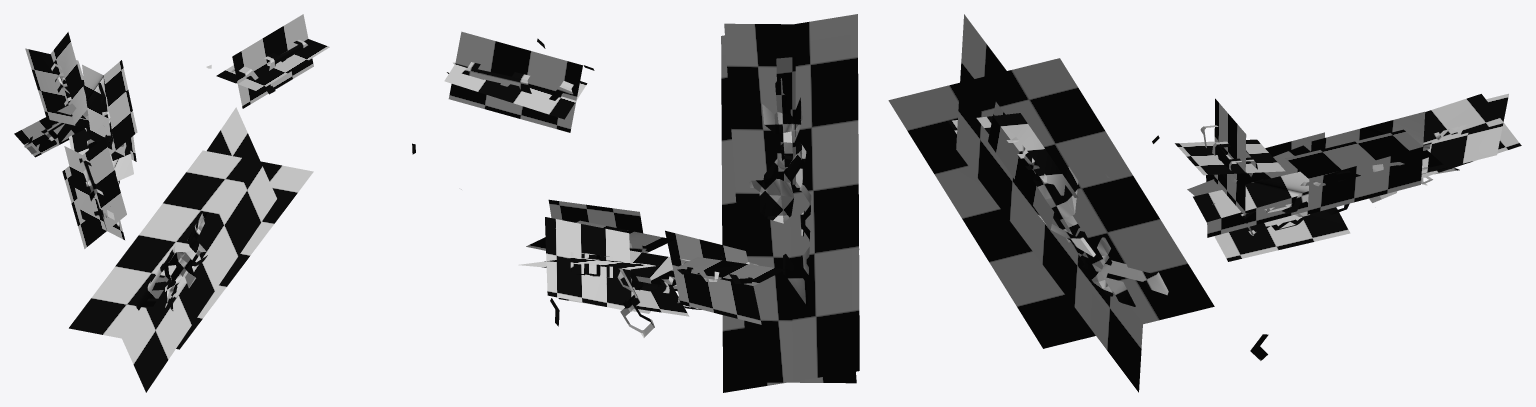
The model's file is zone_scrap_pirates1.obj.
The picture shows the model from 3 angles, left to right: view 1: azimuth 30°, elevation 25°; view 2: azimuth 150°, elevation 25°; view 3: azimuth 270°, elevation 25°; orthographic projection. The views are drawn at different scales.
Parts seen in each view (by area): view 1: claster_scrap_1; view 2: claster_scrap_1; view 3: claster_scrap_1.
Boxes of the visible parts, x1,y1,x2,y2 form: claster_scrap_1: [14, 14, 415, 392]; claster_scrap_1: [444, 14, 859, 392]; claster_scrap_1: [888, 14, 1521, 392].
Bounding box in the file's own units: 214 × 185 × 287.
1 material, 1 textured.
